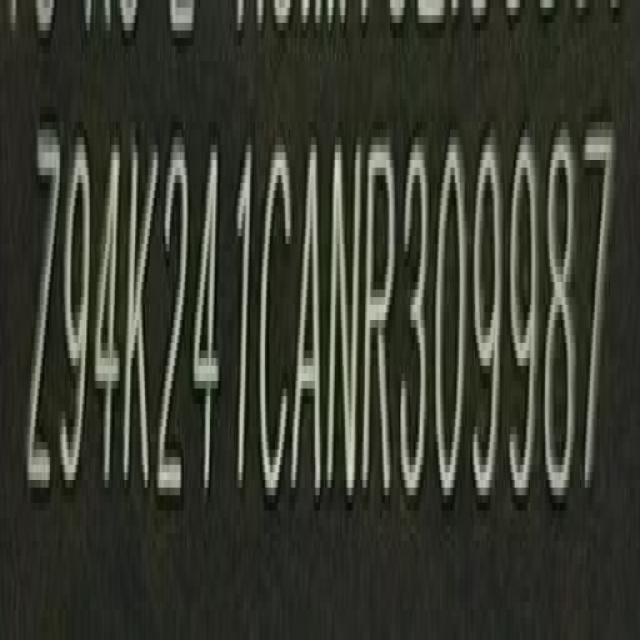0: (436, 136, 466, 510)
1: (233, 133, 253, 508)
2: (160, 138, 190, 512)
3: (400, 135, 432, 508)
4: (195, 138, 225, 511), (96, 132, 124, 504)
7: (581, 125, 612, 508)
8: (547, 128, 578, 510)
9: (509, 137, 542, 509), (472, 137, 504, 510), (60, 136, 89, 506)
A: (295, 136, 327, 507)
C: (258, 135, 293, 505)
K: (126, 133, 159, 503)
N: (324, 132, 364, 500)
R: (364, 132, 398, 505)
Z: (24, 128, 59, 514)
